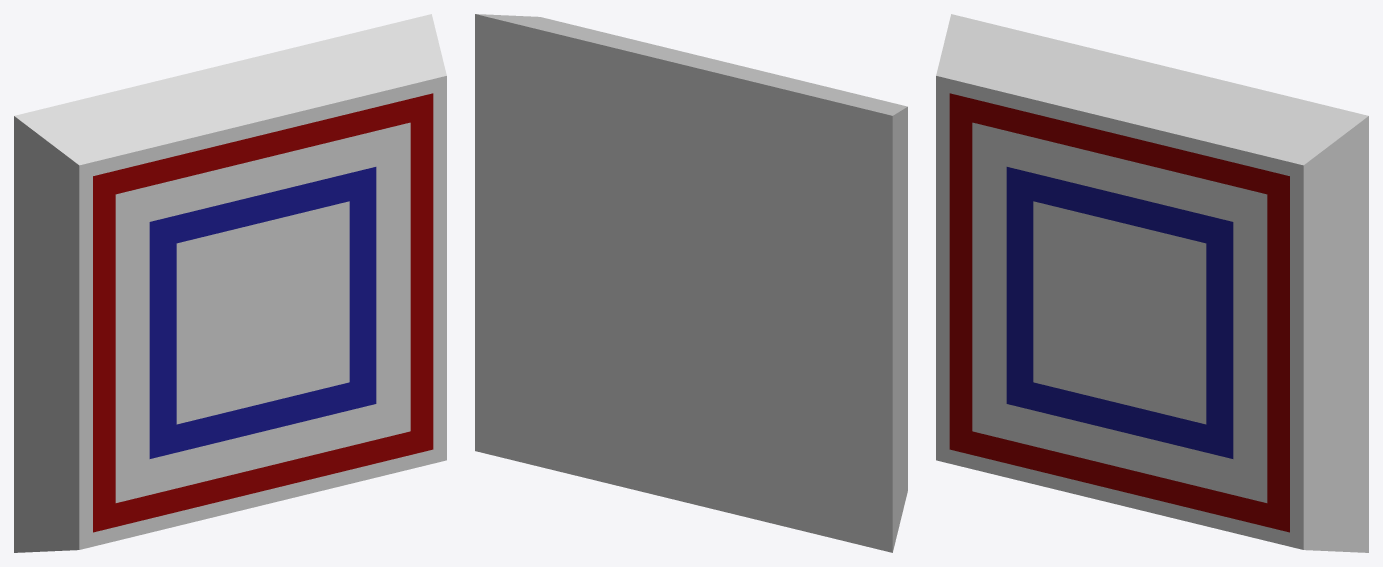
Rendered from SciFi_Semiotic_Refridgeration_01.fbx.
3 views of the same model, side by side, from view 1: azimuth 30°, elevation 25°; view 2: azimuth 150°, elevation 25°; view 3: azimuth 330°, elevation 25° (orthographic).
Visible parts, largest first — view 1: Model; view 2: Model; view 3: Model.
Boxes of the visible parts, left/top/right/bottom form: Model: left=14, top=14, right=446, bottom=552; Model: left=475, top=14, right=907, bottom=552; Model: left=936, top=14, right=1368, bottom=552.
Size of the model in its own units: 251 by 251 by 41.83.
